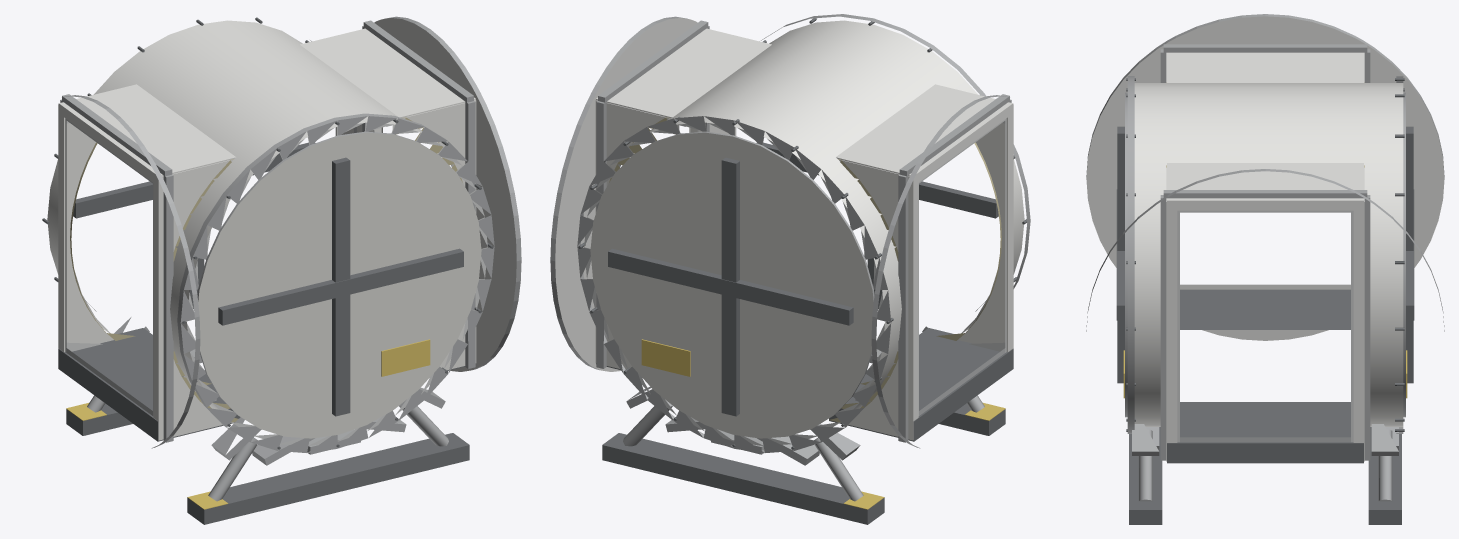
File: habSegJLRbf_steel.glb
3 views of the same model, side by side, from view 1: azimuth 30°, elevation 25°; view 2: azimuth 150°, elevation 25°; view 3: azimuth 270°, elevation 25° (orthographic).
Parts seen in each view (by area): view 1: habSegJLRbf_steel; view 2: habSegJLRbf_steel; view 3: habSegJLRbf_steel.
Boxes of the visible parts, x1=… form: habSegJLRbf_steel: x1=42, y1=16, x2=521, y2=524; habSegJLRbf_steel: x1=550, y1=14, x2=1030, y2=524; habSegJLRbf_steel: x1=1086, y1=14, x2=1444, y2=524.
Bounding box in the file's own units: 2.7 × 2.95 × 2.6.
